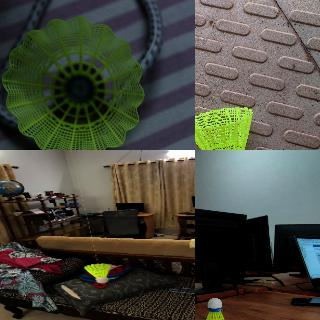shuttlecock: (3, 16, 144, 149), (195, 105, 253, 149), (198, 298, 234, 319), (84, 263, 110, 283)
